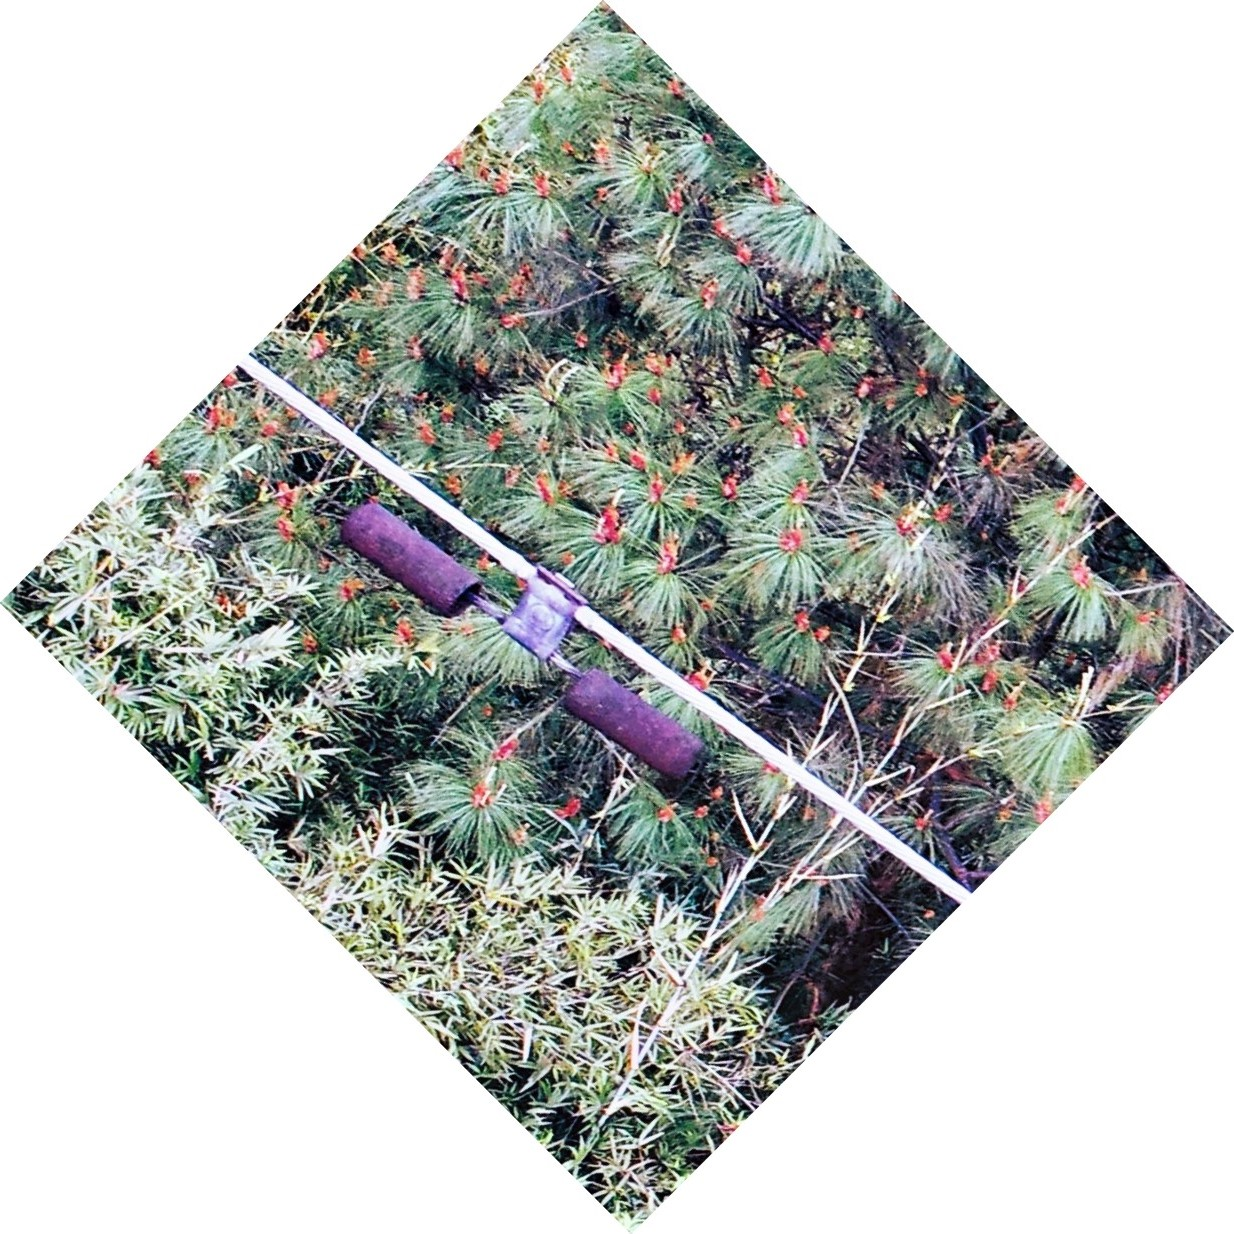Shockproof hammer: (337, 483, 709, 814)
